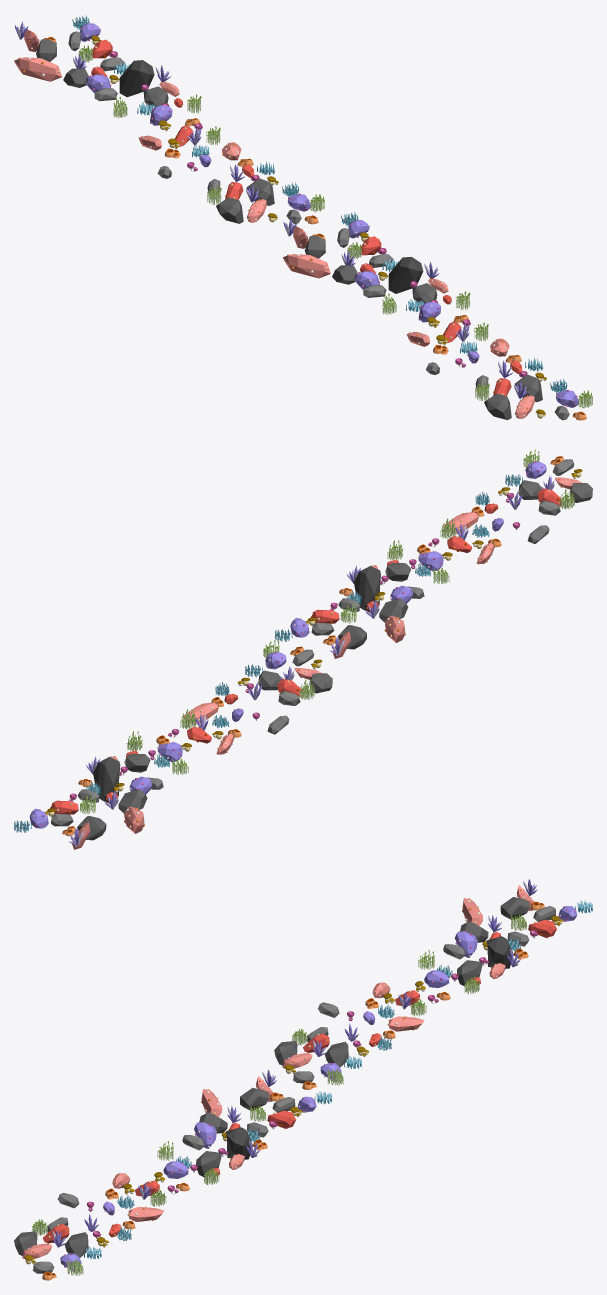
File: BottomStuff.fbx
3 renders of one model, top to bottom at view 1: azimuth 30°, elevation 25°; view 2: azimuth 150°, elevation 25°; view 3: azimuth 330°, elevation 25°, orthographic. The views are drawn at different scales.
Parts seen in each view (by area): view 1: BottomStuff; view 2: BottomStuff; view 3: BottomStuff.
Boxes of the visible parts, x1,y1,x2,y2 form: BottomStuff: (14,15,592,420); BottomStuff: (14,449,592,849); BottomStuff: (14,879,592,1280).
Size of the model in its own units: 4106 by 1449 by 34964.
Materials: 1 (1 with a texture image).
